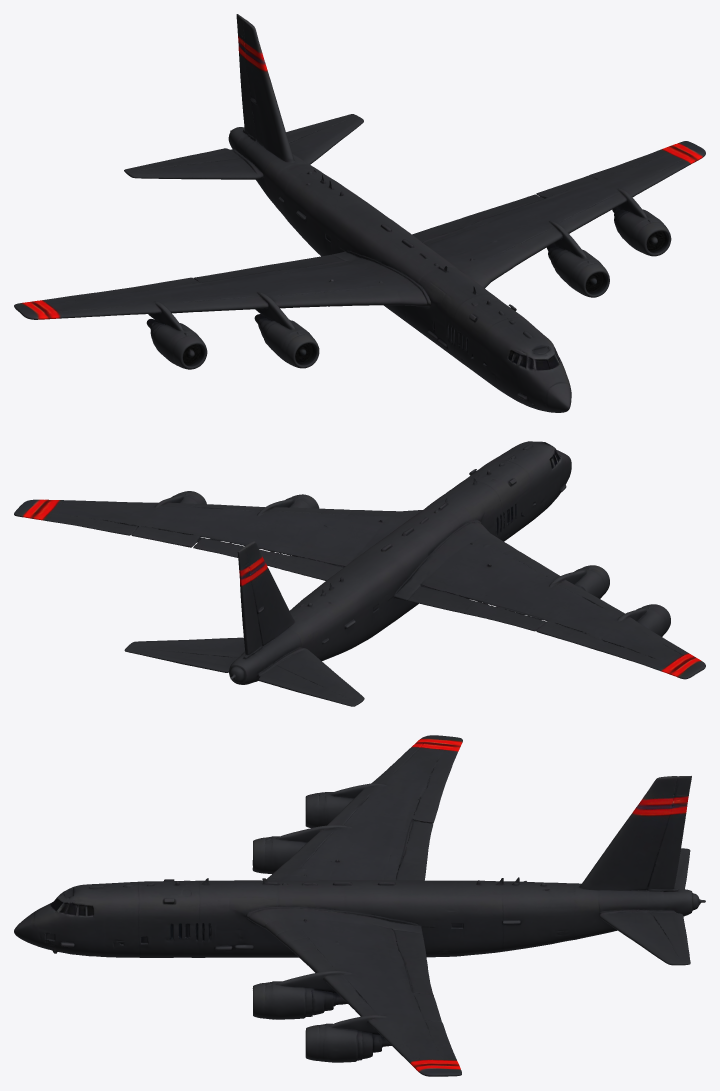
Rendered from boss.glb.
The picture shows the model from 3 angles, top to bottom: view 1: azimuth 30°, elevation 25°; view 2: azimuth 150°, elevation 25°; view 3: azimuth 270°, elevation 25°; orthographic projection. The views are drawn at different scales.
Parts seen in each view (by area): view 1: model; view 2: model; view 3: model.
Boxes of the visible parts, x1,y1,x2,y2 form: model: (14,14,705,412); model: (14,441,705,706); model: (14,735,705,1076).
Bounding box in the file's own units: 1.9 × 0.467 × 1.63.
Materials: 1 (1 with a texture image).
